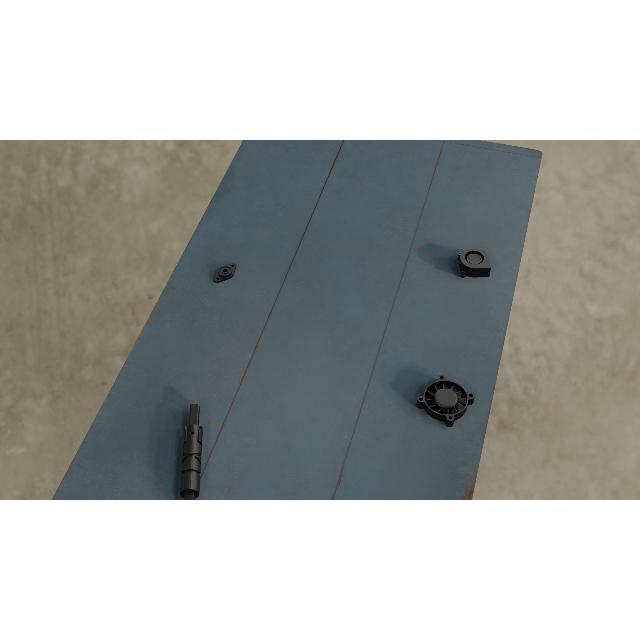Pieza1: (178, 400, 205, 500)
Pieza2: (209, 258, 241, 286)
Pieza3: (456, 248, 492, 278)
Pieza4: (414, 373, 478, 429)
